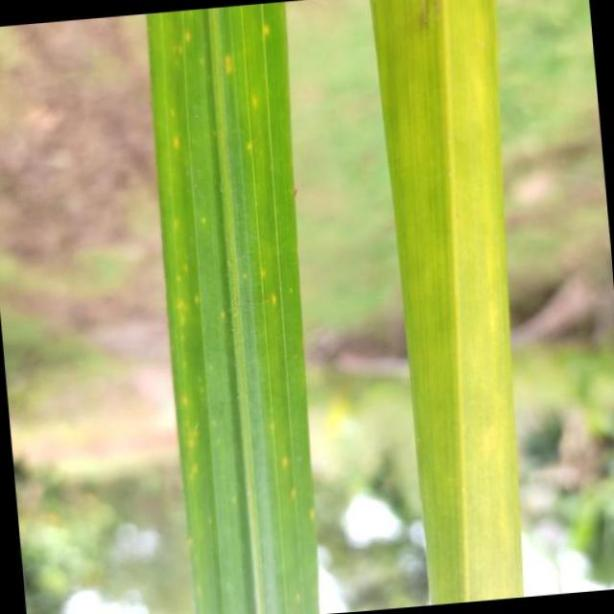nitrogen: (142, 3, 319, 614), (373, 0, 526, 614)
